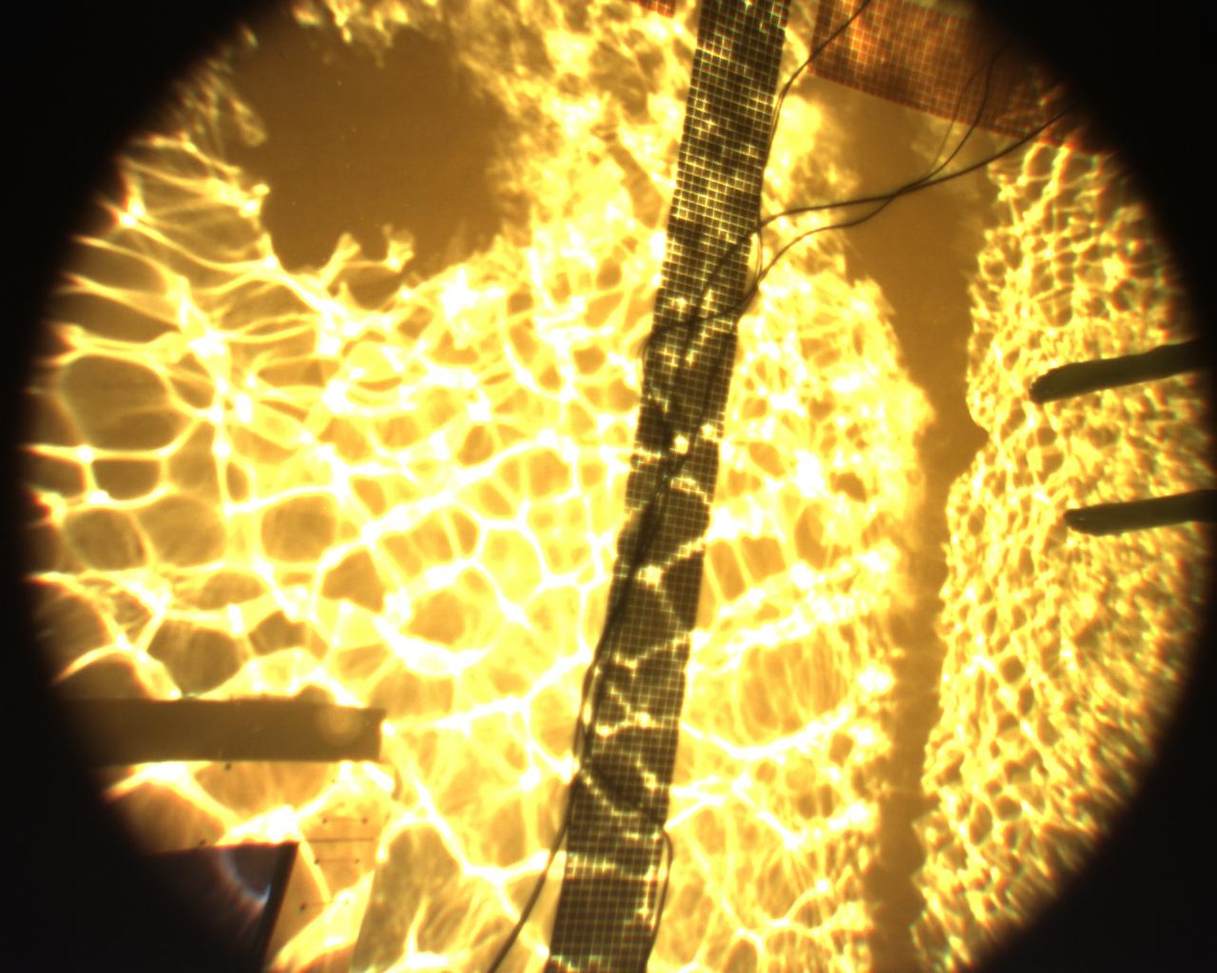dropper-box-top: (0, 763, 395, 973)
